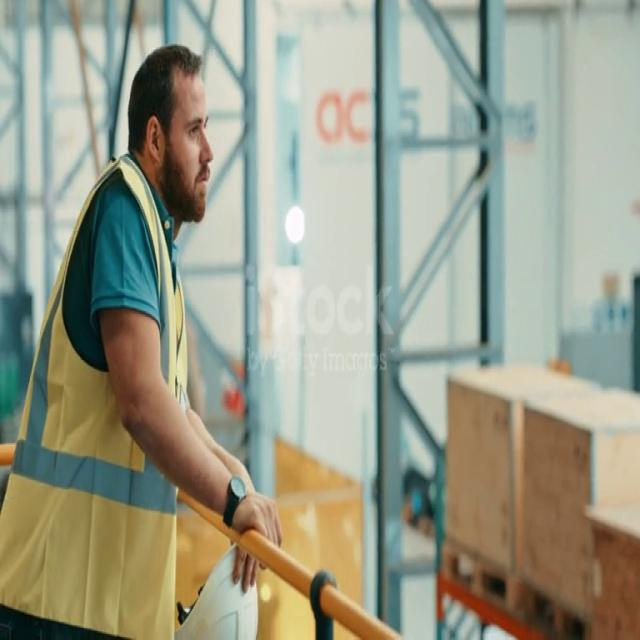sem_capacete: (123, 37, 220, 218)
